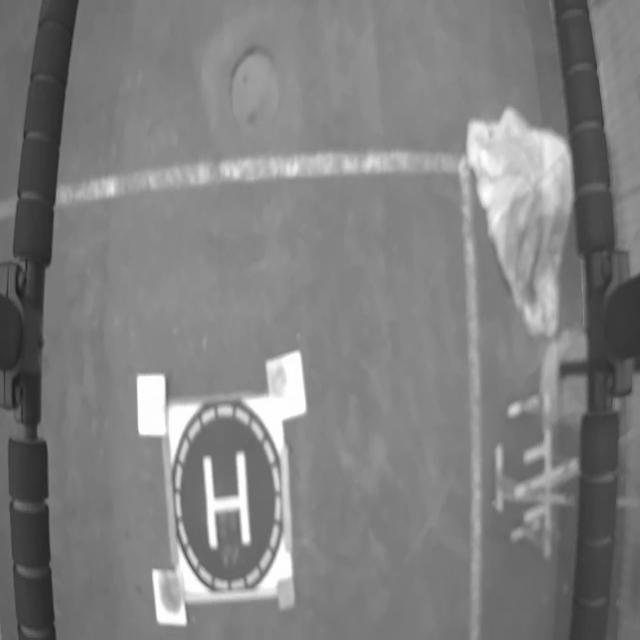Helipad: (201, 451, 252, 551)
